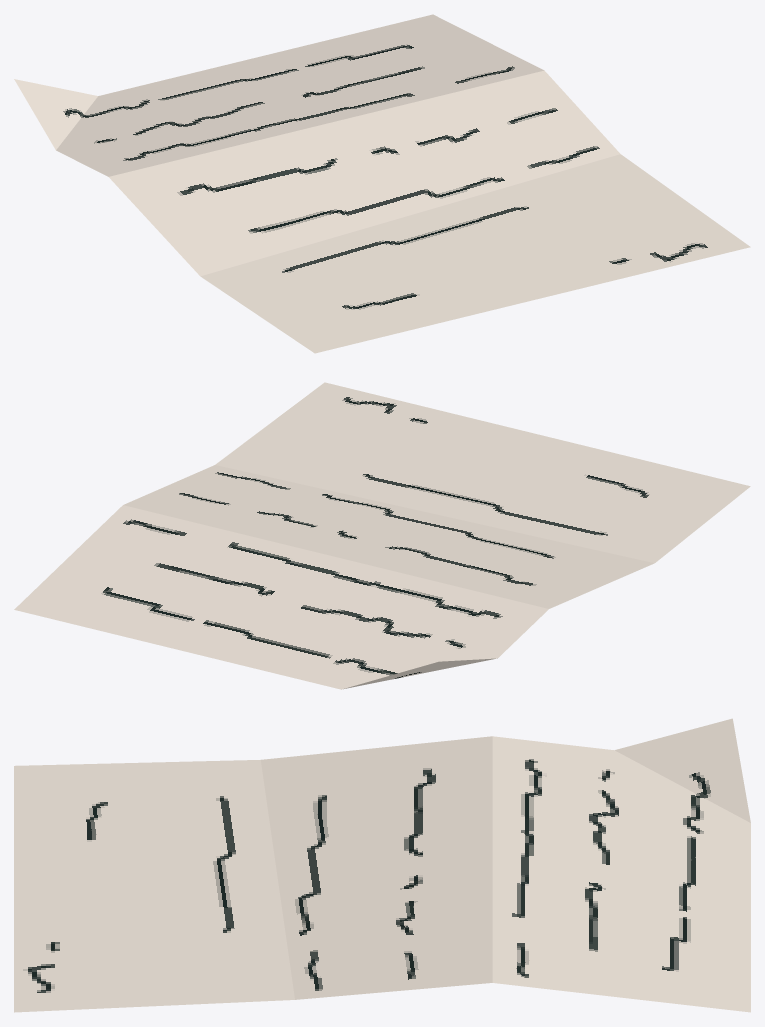
Rendered from m_list.glb.
3 renders of one model, top to bottom at view 1: azimuth 30°, elevation 25°; view 2: azimuth 150°, elevation 25°; view 3: azimuth 270°, elevation 25°, orthographic. The views are drawn at different scales.
Parts seen in each view (by area): view 1: M_List; view 2: M_List; view 3: M_List.
Boxes of the visible parts, x1=… form: M_List: x1=14, y1=14, x2=750, y2=353; M_List: x1=14, y1=382, x2=750, y2=689; M_List: x1=14, y1=718, x2=750, y2=1012.
Size of the model in its own units: 0.2792 by 0.0272 by 0.346.
1 material, 1 textured.
